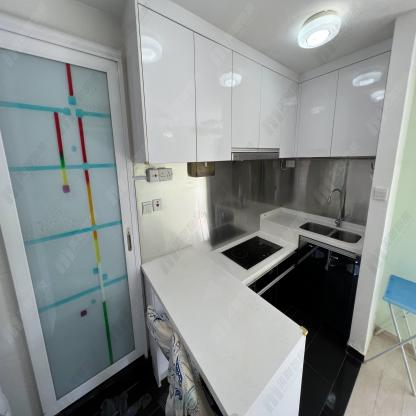Cupboard: (140, 5, 394, 161)
Exhaust Hood: (231, 153, 280, 160)
Faucet: (326, 184, 345, 228)
Sink: (290, 218, 365, 251), (301, 220, 363, 245)
Stove: (220, 232, 284, 272)
